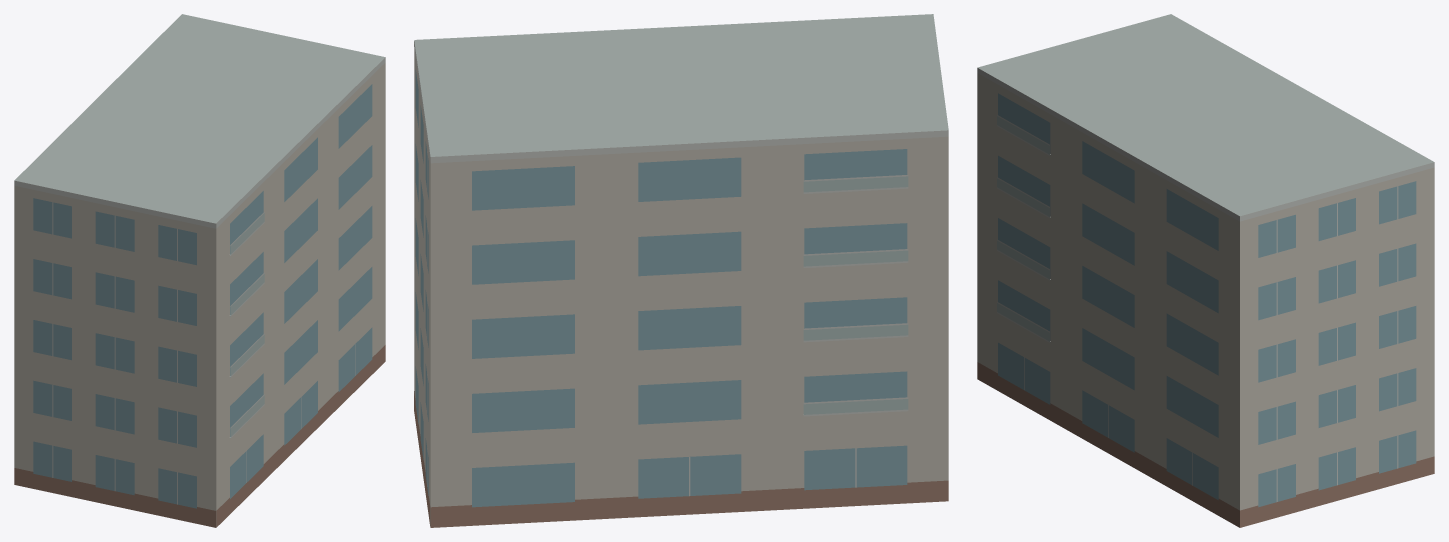
File: survey-upis-32751560.glb
3 views of the same model, side by side, from view 1: azimuth 30°, elevation 25°; view 2: azimuth 150°, elevation 25°; view 3: azimuth 270°, elevation 25° (orthographic). The views are drawn at different scales.
Parts seen in each view (by area): view 1: survey-upis-32751560.tmp; view 2: survey-upis-32751560.tmp; view 3: survey-upis-32751560.tmp.
Boxes of the visible parts, left/top/right/bottom form: survey-upis-32751560.tmp: left=14, top=14, right=385, bottom=527; survey-upis-32751560.tmp: left=414, top=14, right=948, bottom=527; survey-upis-32751560.tmp: left=977, top=14, right=1434, bottom=527.
Size of the model in its own units: 20.14 by 14.45 by 19.24.
